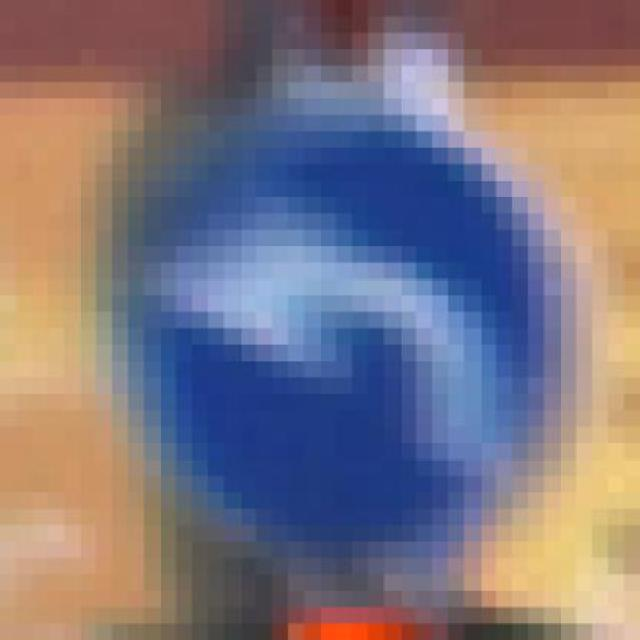Turn left ahead: (64, 49, 591, 558)
